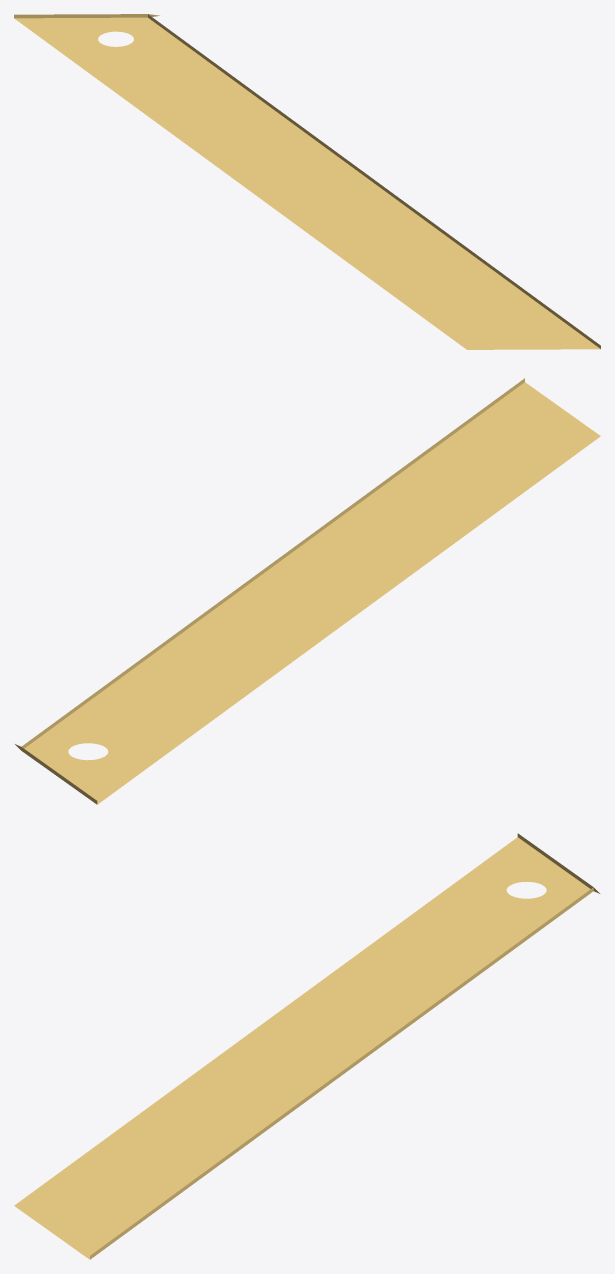
The model's file is original-5.obj.
The picture shows the model from 3 angles, top to bottom: view 1: azimuth 30°, elevation 25°; view 2: azimuth 150°, elevation 25°; view 3: azimuth 330°, elevation 25°; orthographic projection. The views are drawn at different scales.
Parts seen in each view (by area): view 1: #ID25; view 2: #ID25; view 3: #ID25.
Boxes of the visible parts, left/top/right/bottom form: #ID25: left=14, top=14, right=600, bottom=349; #ID25: left=15, top=378, right=600, bottom=804; #ID25: left=14, top=833, right=599, bottom=1259.
Bounding box in the file's own units: 0.1953 × 0.00609 × 1.48.
